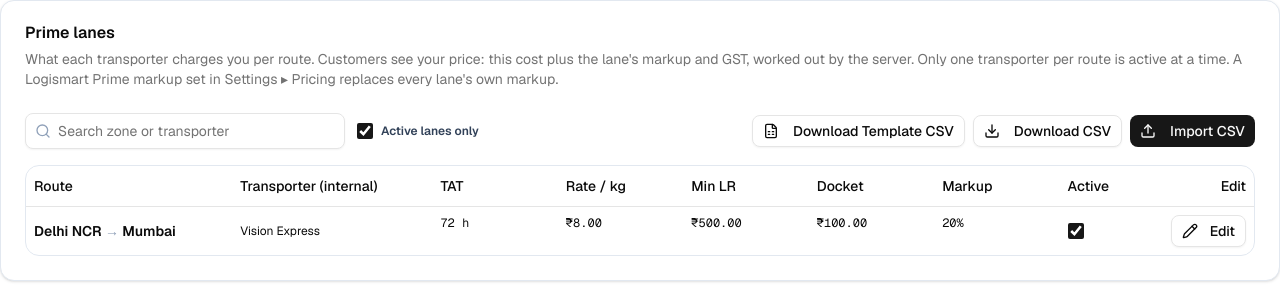
it: PrimeLanesEditor › loads active lanes and PATCHes only the changed field
The width and height of the screenshot is (1280, 299).
Check: the row with test id "prime-lanes.row.lane-1" shows "Vision Express", box [240,222,320,238]
Click the button with test id "prime-lanes.row.lane-1.edit" at coordinates (1208, 230), box [1171,214,1246,246]
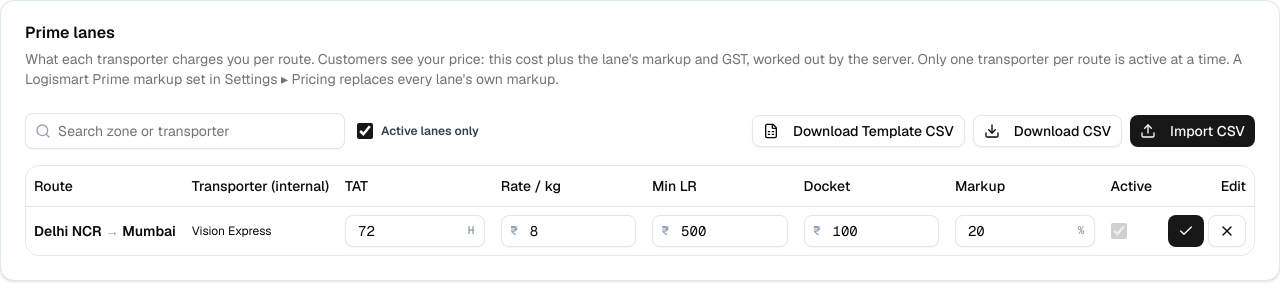
Replace the text in the field with test id "prime-lanes.row.lane-1.rate_per_kg" with "9" at coordinates (568, 230), box [501,214,636,246]
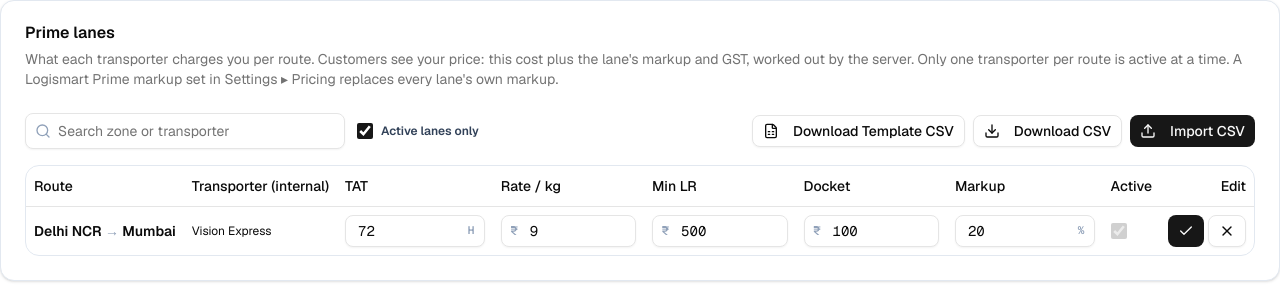
Click the button with test id "prime-lanes.row.lane-1.save" at coordinates (1186, 230), box [1168,214,1204,246]
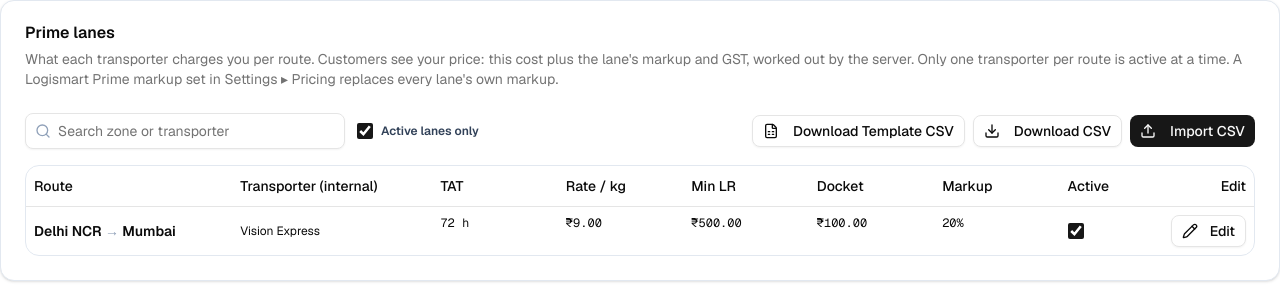
Check: the button with test id "prime-lanes.row.lane-1.edit" is shown, box [1171,214,1246,246]
